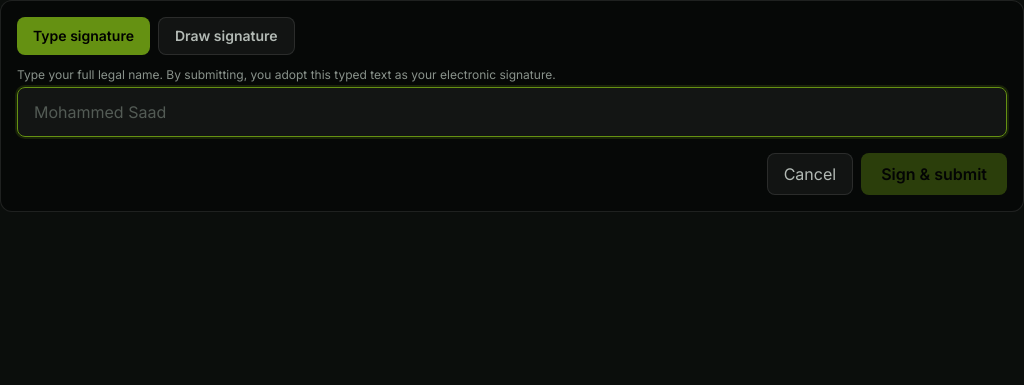
Test: SignaturePad › tab switching does not lose typed input › typed value persists when navigating away and back
This screenshot has width=1024, height=385.
Type "Sazzad Mahmud" into the field with placeholder "Mohammed Saad".
click(512, 112); type("Sazzad Mahmud")  # box x1=17 y1=87 x2=1007 y2=137
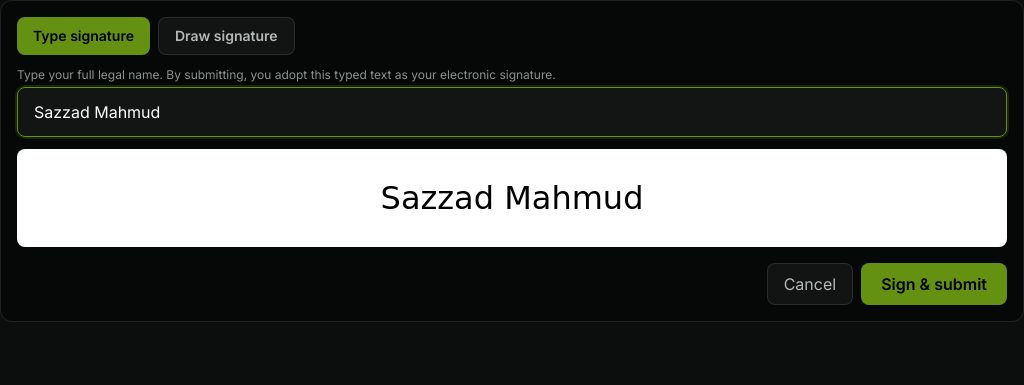
Click the button "Draw signature".
click(226, 36)  # box x1=158 y1=17 x2=294 y2=55
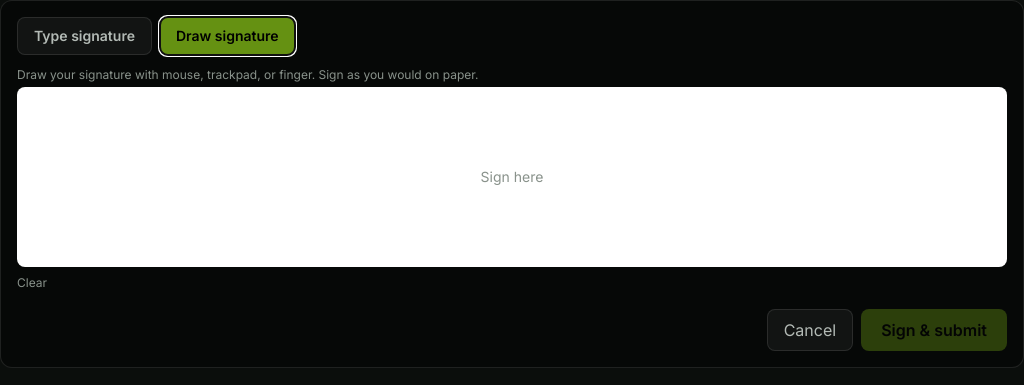
Click the button "Type signature".
click(84, 36)  # box x1=17 y1=17 x2=152 y2=55
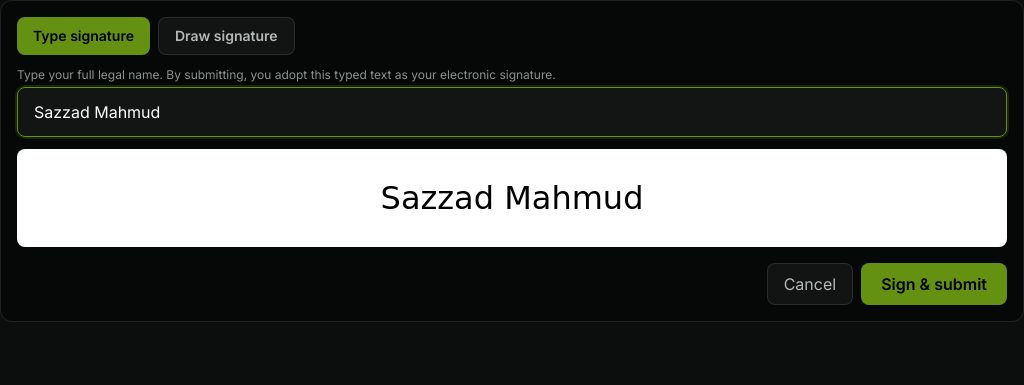
Now the field with placeholder "Mohammed Saad" holds "Sazzad Mahmud", box x1=17 y1=87 x2=1007 y2=137
